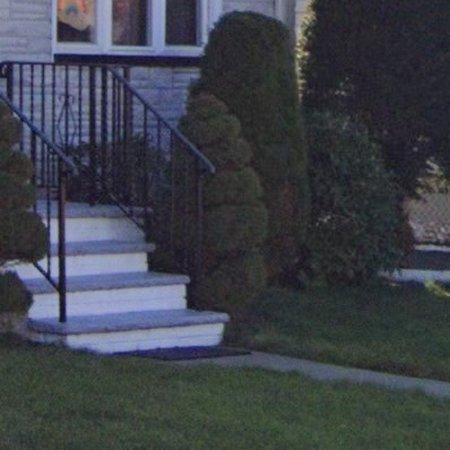stairs: (5, 202, 229, 355)
